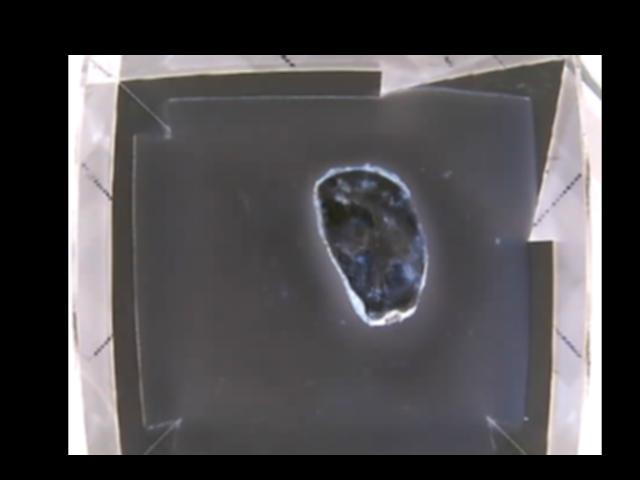Shell: (311, 163, 427, 329)
